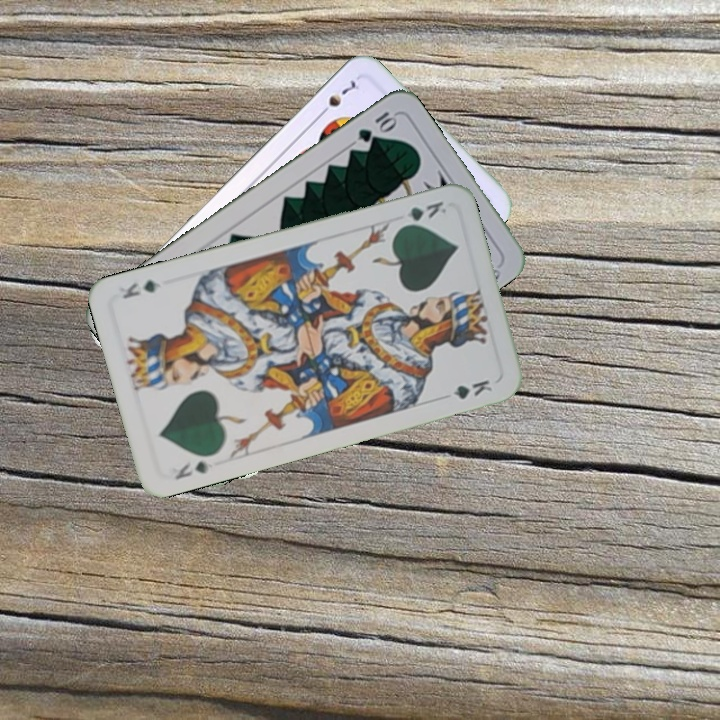G10: (353, 107, 400, 145)
GK: (394, 197, 449, 231), (171, 457, 215, 482)
S7: (314, 76, 362, 120)
